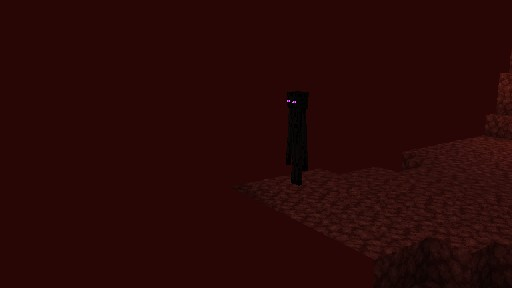enderman: (285, 90, 309, 187)
